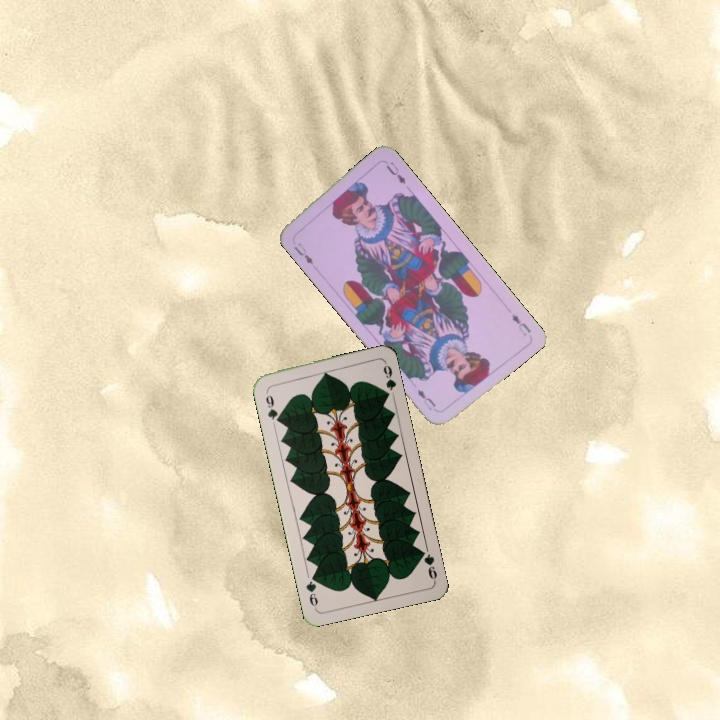EU: (290, 238, 316, 267), (507, 310, 533, 339)
G9: (415, 545, 440, 583), (262, 386, 283, 425)
